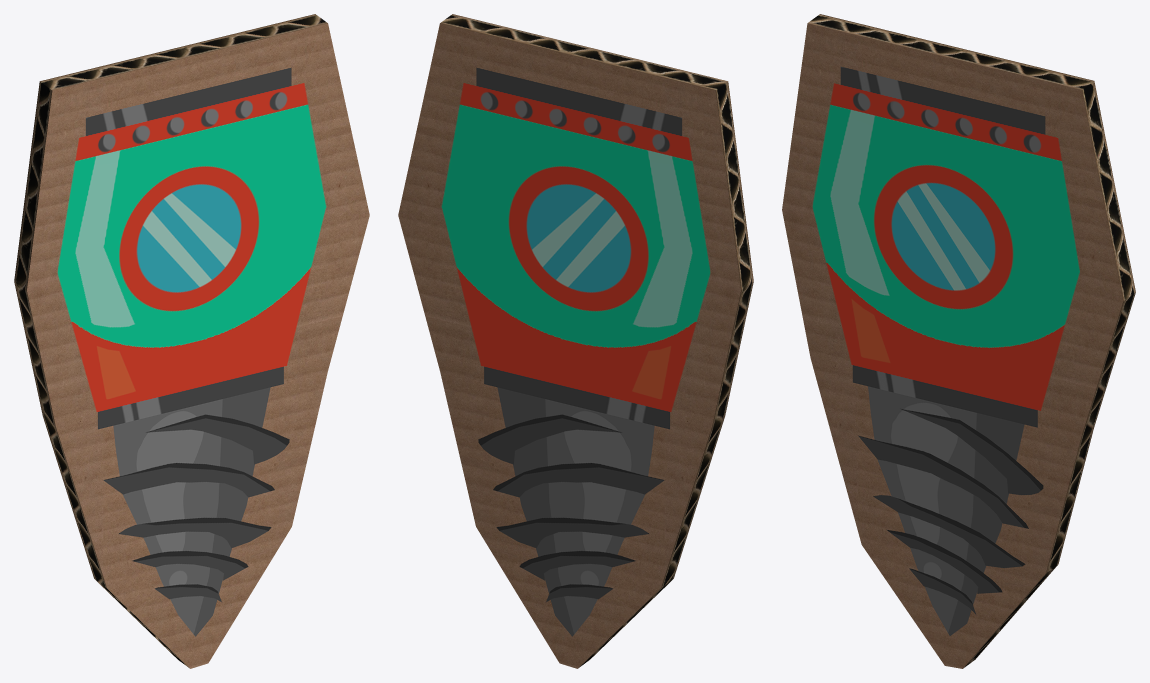
The model's file is Cardbord_Drill.FBX.
3 views of the same model, side by side, from view 1: azimuth 30°, elevation 25°; view 2: azimuth 150°, elevation 25°; view 3: azimuth 330°, elevation 25° (orthographic).
Visible parts, largest first — view 1: Plane001; view 2: Plane001; view 3: Plane001.
Boxes of the visible parts, x1=… form: Plane001: x1=14, y1=14, x2=369, y2=668; Plane001: x1=398, y1=14, x2=753, y2=668; Plane001: x1=782, y1=14, x2=1135, y2=668.
Size of the model in its own units: 779 by 1329 by 50.
